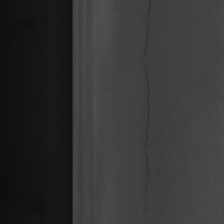inclusion: (140, 3, 158, 192)
